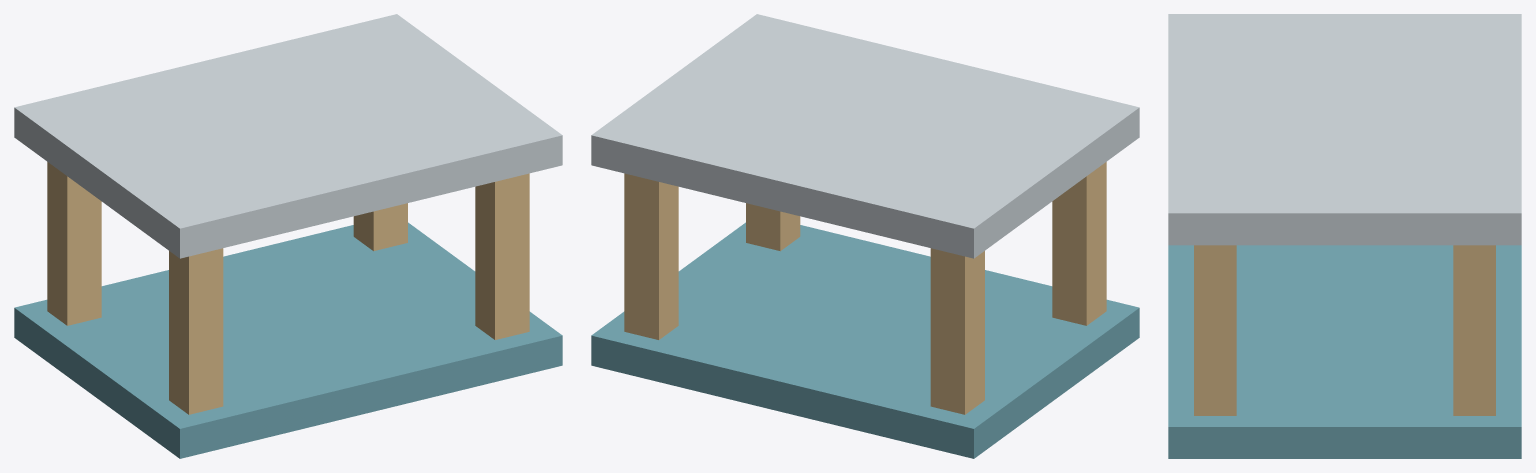
File: example.glb
The picture shows the model from 3 angles, left to right: view 1: azimuth 30°, elevation 25°; view 2: azimuth 150°, elevation 25°; view 3: azimuth 270°, elevation 25°; orthographic projection. The views are drawn at different scales.
Visible parts, largest first — view 1: Top plate, Base plate, Support 3, Support 4, Support 1, Support 2; view 2: Top plate, Base plate, Support 1, Support 2, Support 3, Support 4; view 3: Top plate, Base plate, Support 2, Support 4.
Part boxes in pixels (left/top/right/bottom): Top plate: left=14, top=14, right=562, bottom=258; Base plate: left=14, top=222, right=562, bottom=458; Support 3: left=169, top=248, right=223, bottom=414; Support 4: left=475, top=173, right=529, bottom=339; Support 1: left=47, top=162, right=101, bottom=325; Support 2: left=353, top=203, right=407, bottom=251; Top plate: left=591, top=14, right=1139, bottom=258; Base plate: left=591, top=222, right=1139, bottom=458; Support 1: left=930, top=248, right=984, bottom=414; Support 2: left=624, top=173, right=678, bottom=339; Support 3: left=1052, top=162, right=1106, bottom=325; Support 4: left=746, top=203, right=800, bottom=251; Top plate: left=1168, top=14, right=1521, bottom=245; Base plate: left=1168, top=245, right=1521, bottom=458; Support 2: left=1453, top=245, right=1495, bottom=415; Support 4: left=1194, top=245, right=1236, bottom=415.
Size of the model in its own units: 4 by 2.3 by 3.
